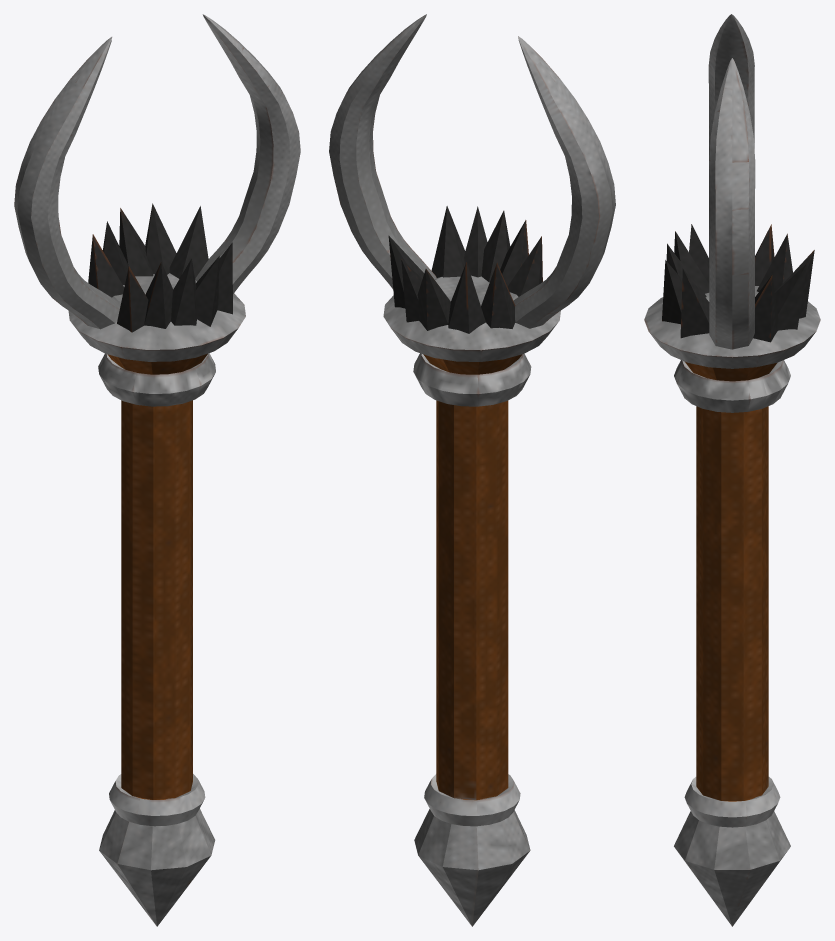
The model's file is WAND_FINAL.fbx.
The picture shows the model from 3 angles, left to right: view 1: azimuth 30°, elevation 25°; view 2: azimuth 150°, elevation 25°; view 3: azimuth 270°, elevation 25°; orthographic projection.
Parts seen in each view (by area): view 1: Cone.011; view 2: Cone.011; view 3: Cone.011.
Part boxes in pixels (bbox=[...]): Cone.011: bbox=[14, 14, 300, 926]; Cone.011: bbox=[329, 14, 615, 926]; Cone.011: bbox=[644, 14, 820, 926].
Size of the model in its own units: 146 by 449 by 80.7.
